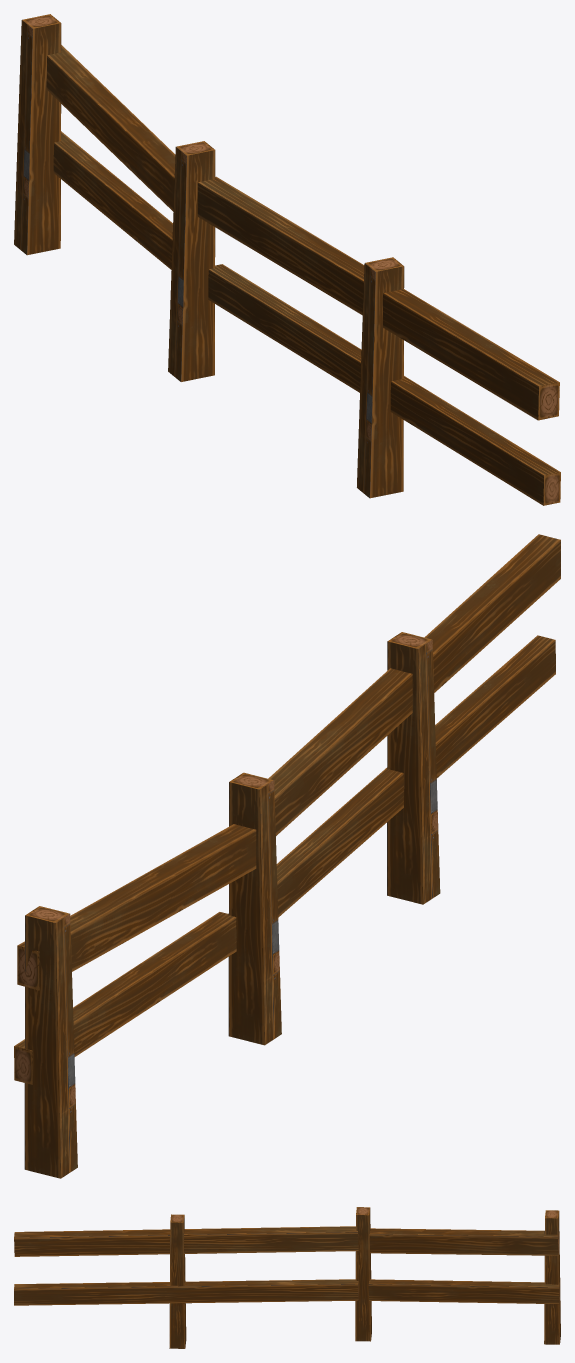
3 views of the same model, one above another, from view 1: azimuth 30°, elevation 25°; view 2: azimuth 150°, elevation 25°; view 3: azimuth 270°, elevation 25° (orthographic). The views are drawn at different scales.
Visible parts, largest first — view 1: Cube.039; view 2: Cube.039; view 3: Cube.039.
Boxes of the visible parts, <box> form: Cube.039: <box>14,14,560,505</box>; Cube.039: <box>14,534,560,1178</box>; Cube.039: <box>14,1207,560,1348</box>.
Size of the model in its own units: 46.91 by 133 by 516.
Materials: 1 (1 with a texture image).
